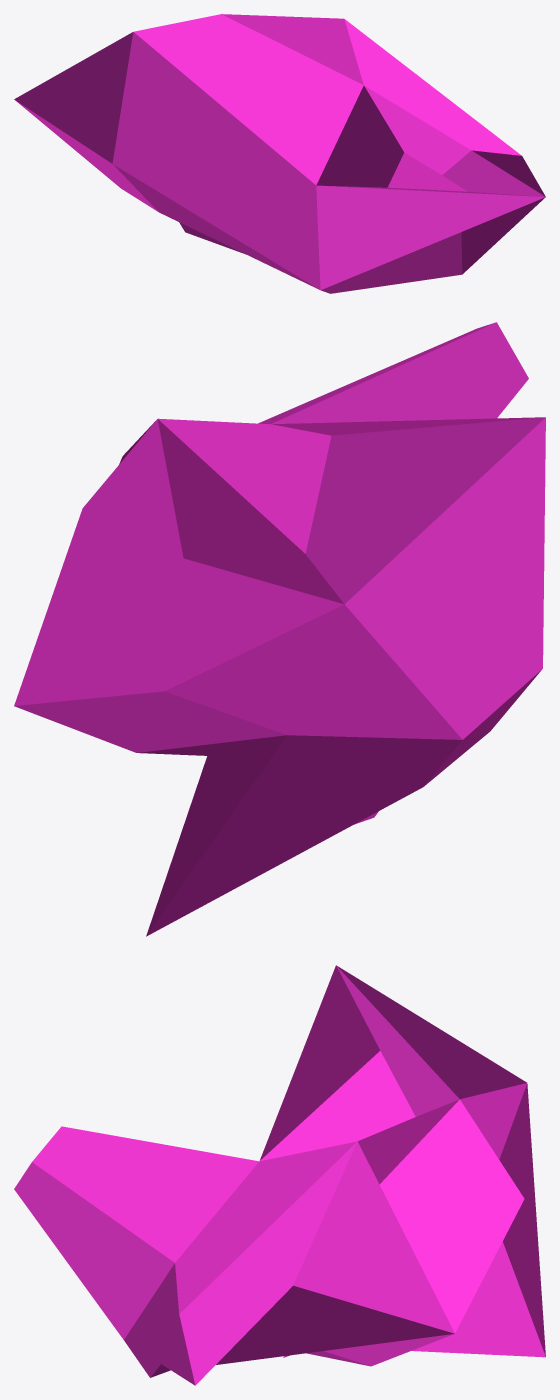
Rendered from CrystalDebris3.fbx.
3 views of the same model, one above another, from view 1: azimuth 30°, elevation 25°; view 2: azimuth 150°, elevation 25°; view 3: azimuth 270°, elevation 25° (orthographic). The views are drawn at different scales.
Parts seen in each view (by area): view 1: CrystalDebris3; view 2: CrystalDebris3; view 3: CrystalDebris3.
Part boxes in pixels (box(x1,y1,x2,y2)): CrystalDebris3: box(14, 14, 545, 293); CrystalDebris3: box(14, 322, 545, 936); CrystalDebris3: box(14, 965, 545, 1385).
Size of the model in its own units: 153 by 108 by 167.
